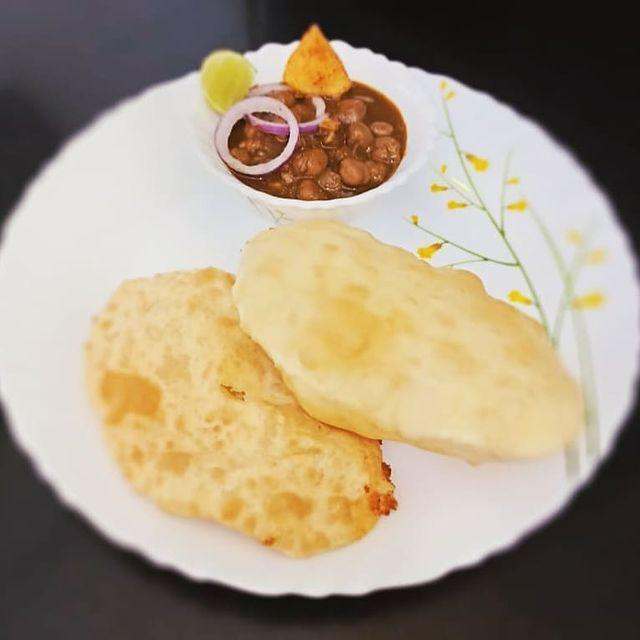Chole: (262, 86, 416, 208)
